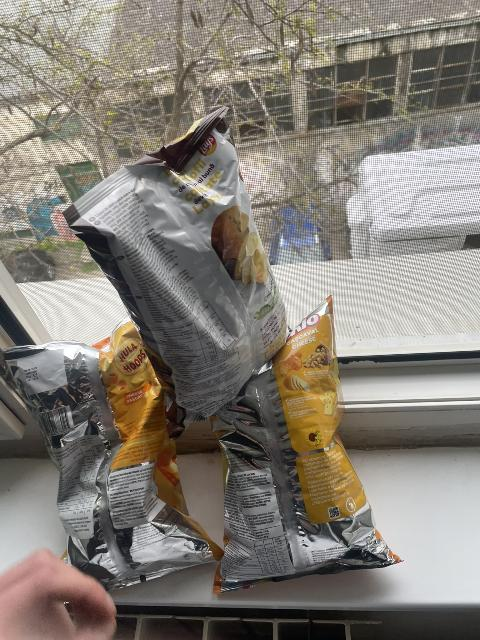Chio Cascaval 125g: (208, 295, 403, 598)
Chio Hula Hoops Cheese 70g: (3, 321, 223, 594)
Lays Beef Grilled Ribs 125g: (65, 108, 292, 439)
